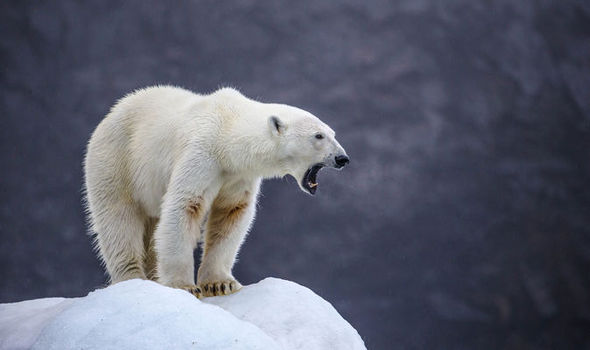Polar Bear: (67, 66, 370, 288)
